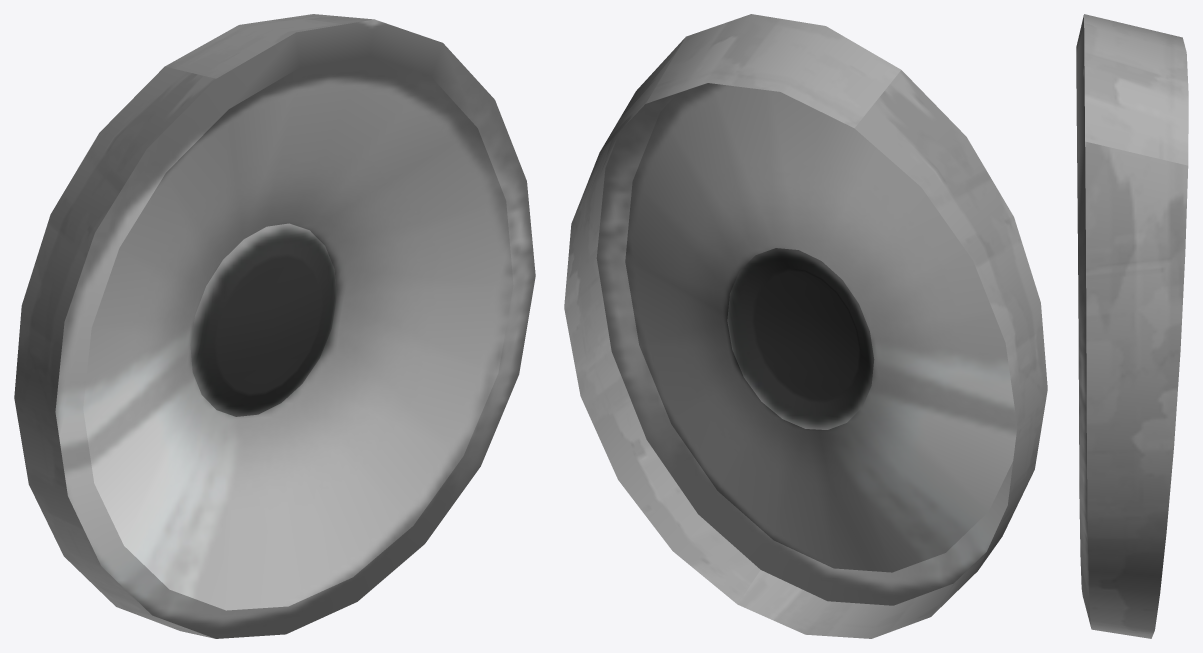
Rendered from boombox_woofer.glb.
The picture shows the model from 3 angles, left to right: view 1: azimuth 30°, elevation 25°; view 2: azimuth 150°, elevation 25°; view 3: azimuth 270°, elevation 25°; orthographic projection. The views are drawn at different scales.
Visible parts, largest first — view 1: boombox_woofer; view 2: boombox_woofer; view 3: boombox_woofer.
Boxes of the visible parts, <box> form: boombox_woofer: <box>14,14,535,638</box>; boombox_woofer: <box>564,14,1047,638</box>; boombox_woofer: <box>1076,14,1188,638</box>.
Size of the model in its own units: 0.2478 by 0.302 by 0.0513.
Materials: 1 (1 with a texture image).
